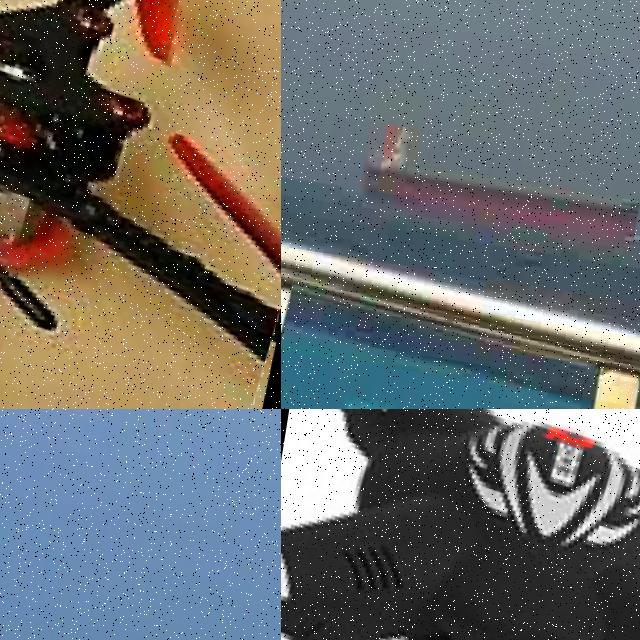drone: (0, 0, 281, 409), (281, 409, 640, 640)
